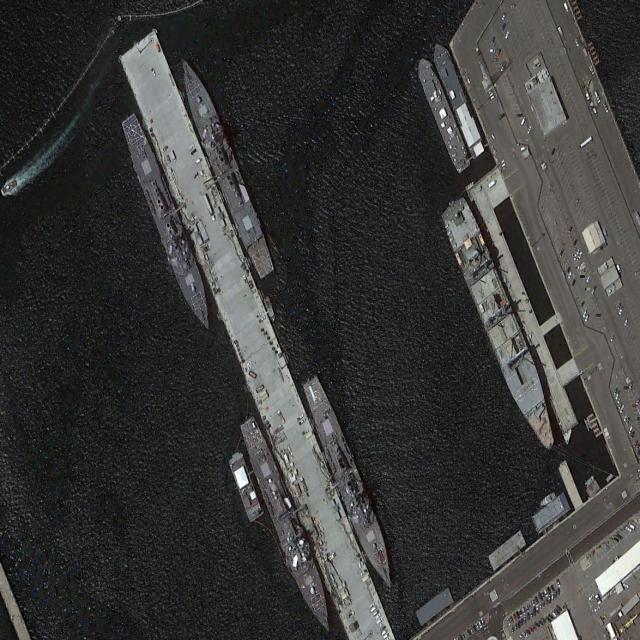Destroyer: (170, 46, 278, 283), (117, 109, 220, 337), (236, 411, 338, 640), (299, 369, 401, 598)
Other Ship: (437, 191, 566, 461), (413, 52, 473, 176), (430, 36, 488, 163)
